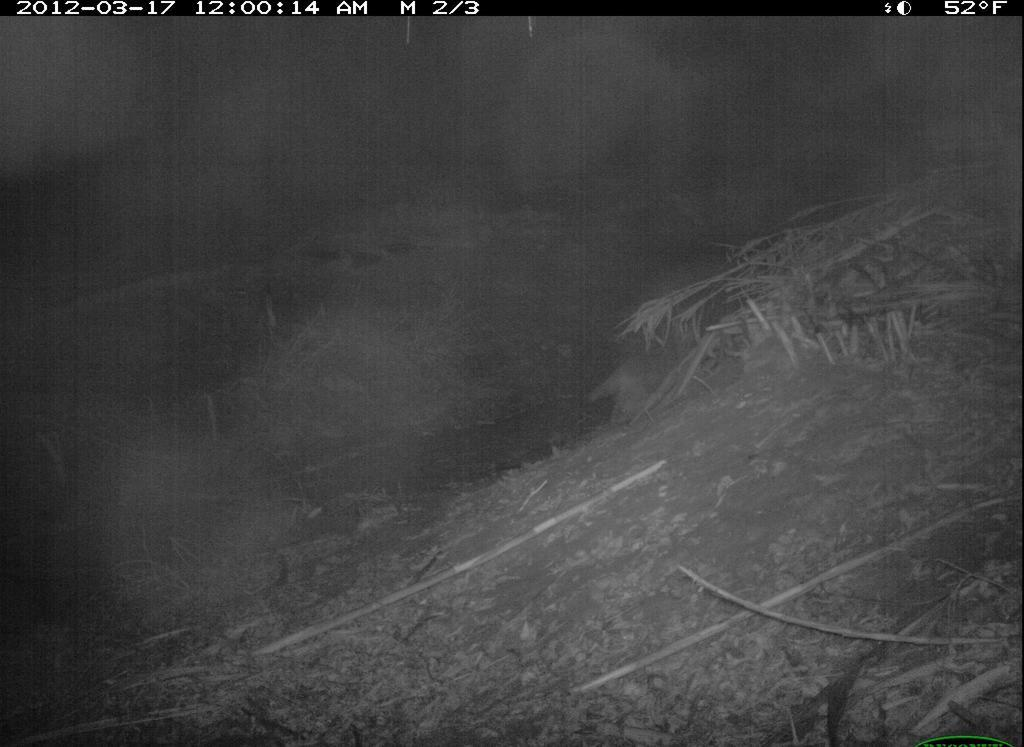coyote: (583, 306, 706, 420)
